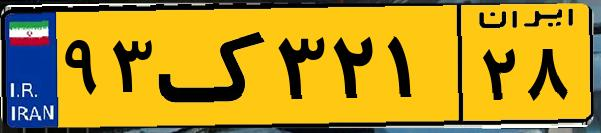1: (385, 28, 445, 110)
2: (330, 28, 385, 110), (475, 38, 525, 113)
3: (270, 28, 330, 110), (110, 28, 158, 98)
8: (525, 38, 570, 115)
9: (57, 26, 110, 100)
ک: (158, 12, 270, 120)
